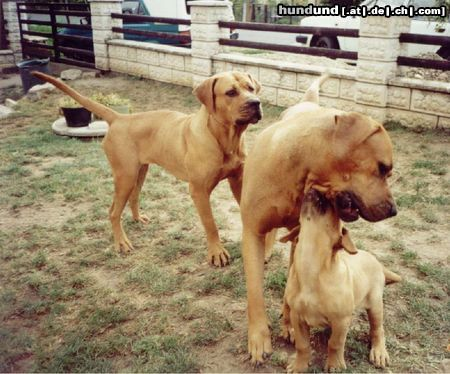tosa_inu: (29, 69, 264, 269), (238, 73, 398, 366), (277, 188, 400, 374)
